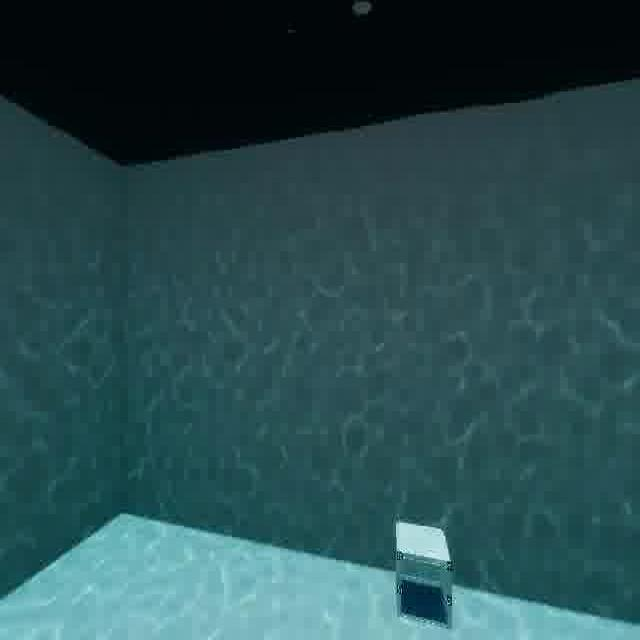Docking Station: (387, 507, 461, 640)
